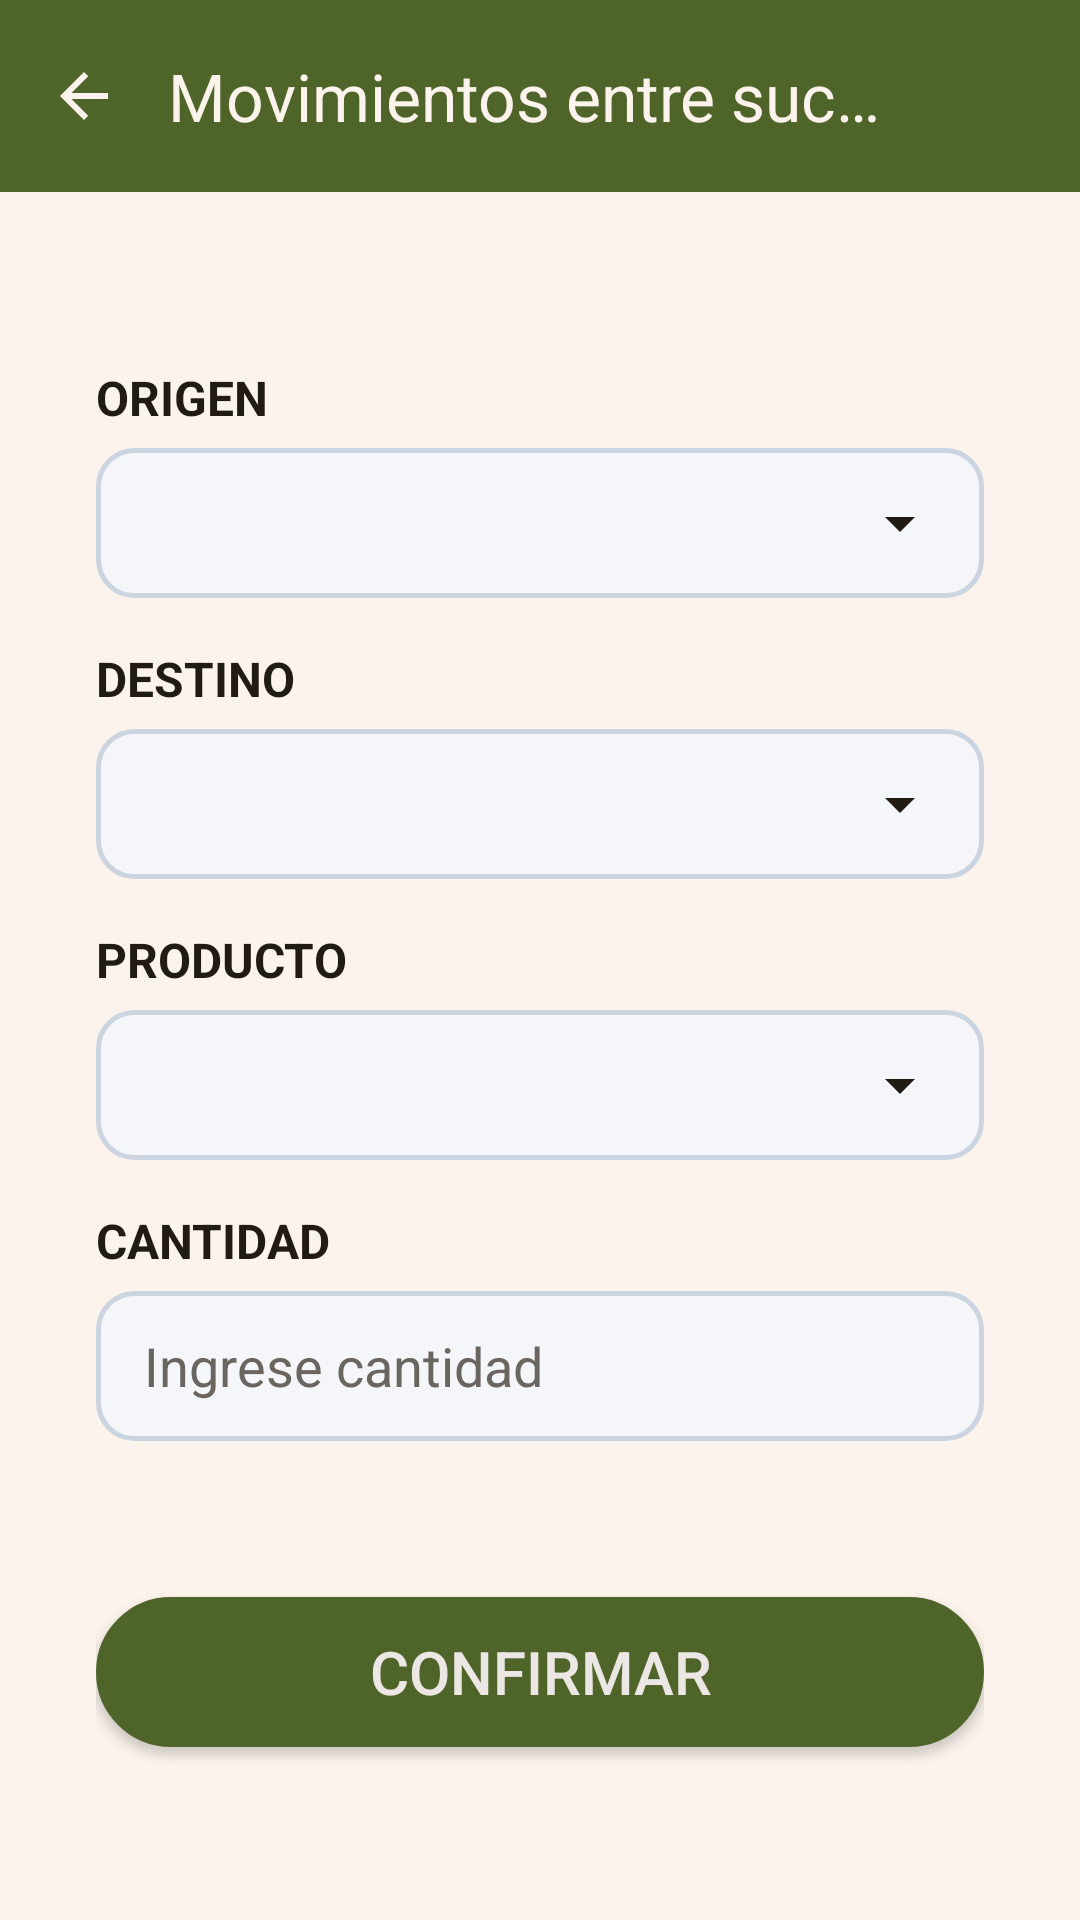

Icon click points for this 1080x1920 phone screenshot, format point (x, y):
flecha desplegable: point (900, 524), point (900, 805), point (900, 1086)
